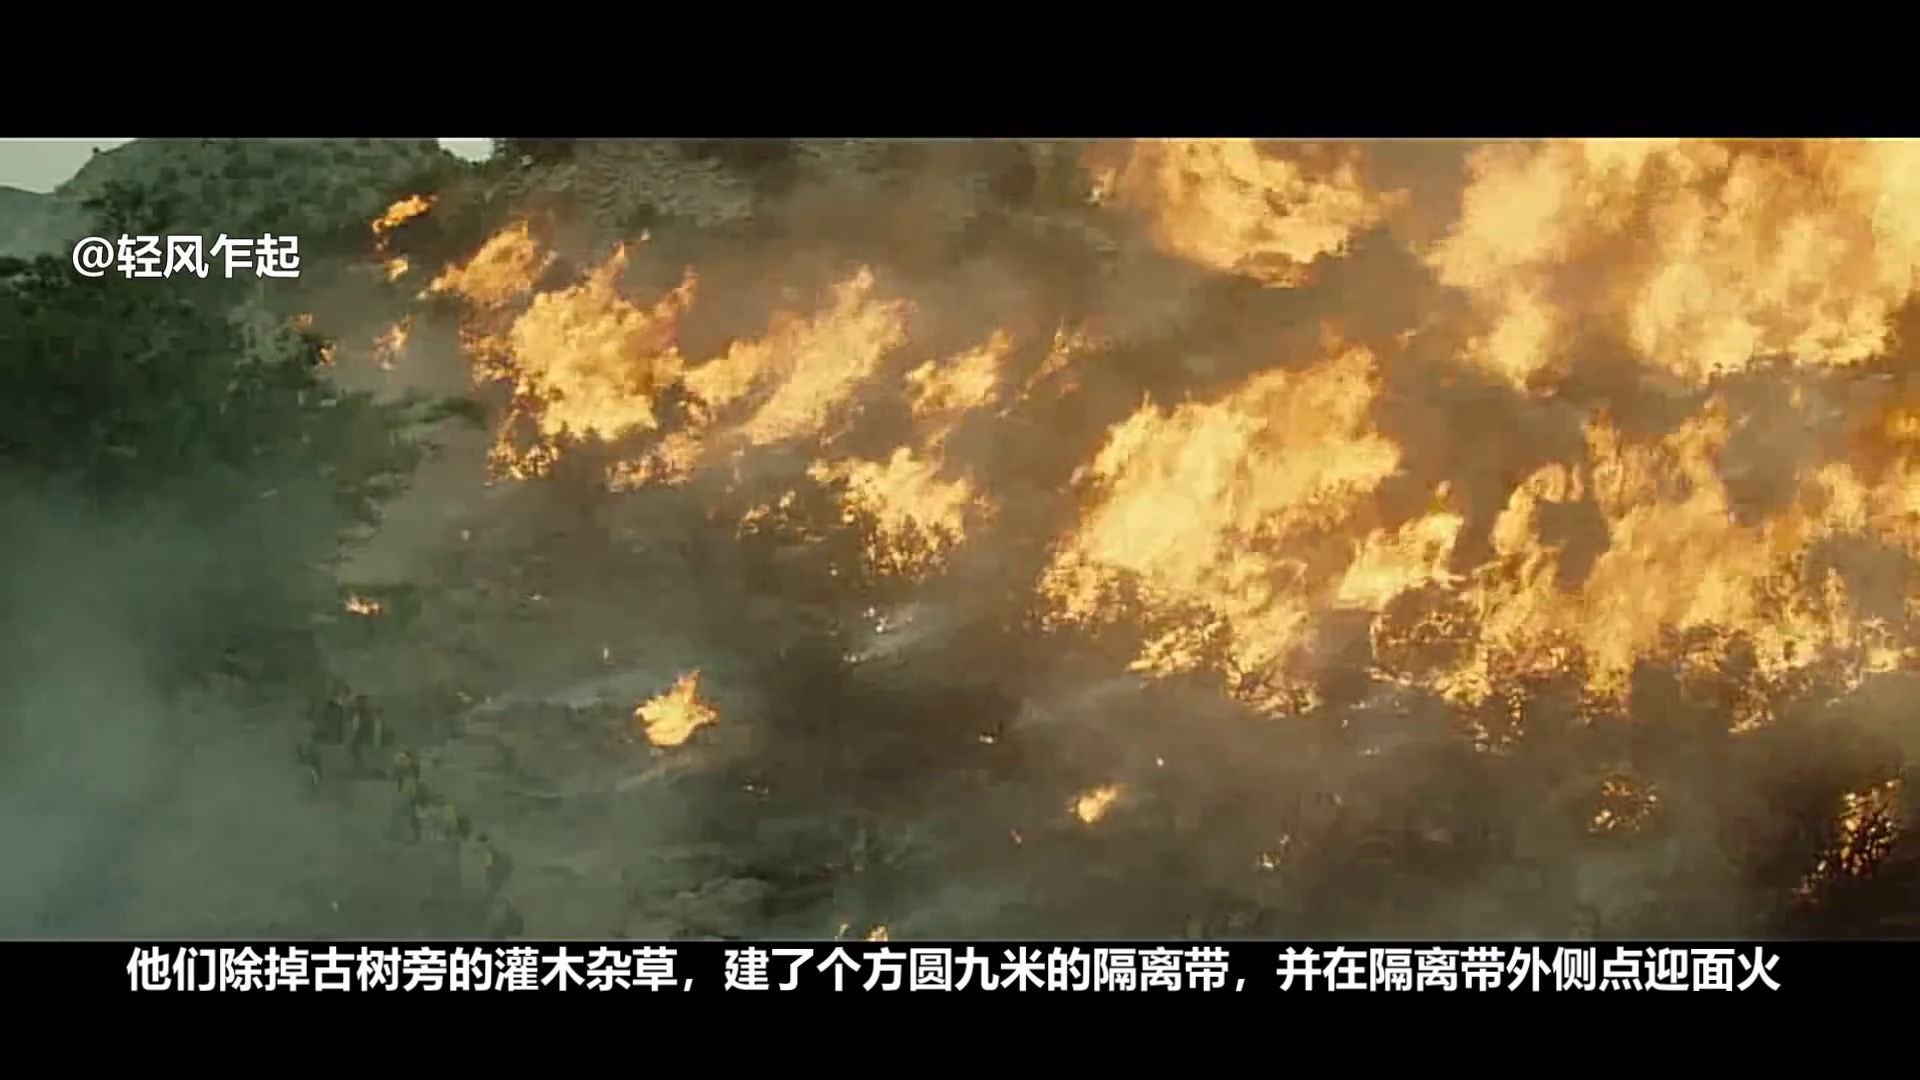fire: (1023, 363, 1920, 716), (1424, 134, 1920, 366), (434, 237, 907, 477), (1103, 134, 1392, 289), (838, 456, 970, 564), (907, 323, 1009, 421), (644, 683, 700, 739), (1074, 784, 1109, 822), (376, 200, 422, 225)
